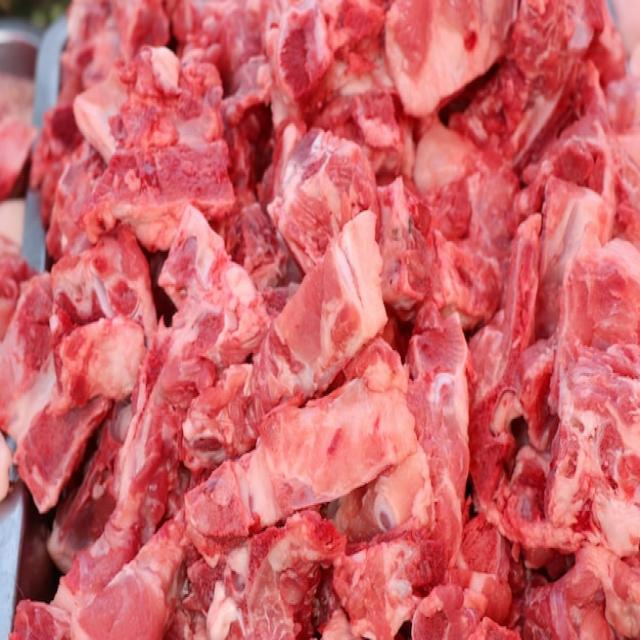Pork: (170, 384, 413, 546), (83, 58, 241, 245), (564, 208, 640, 545), (274, 118, 386, 274)
